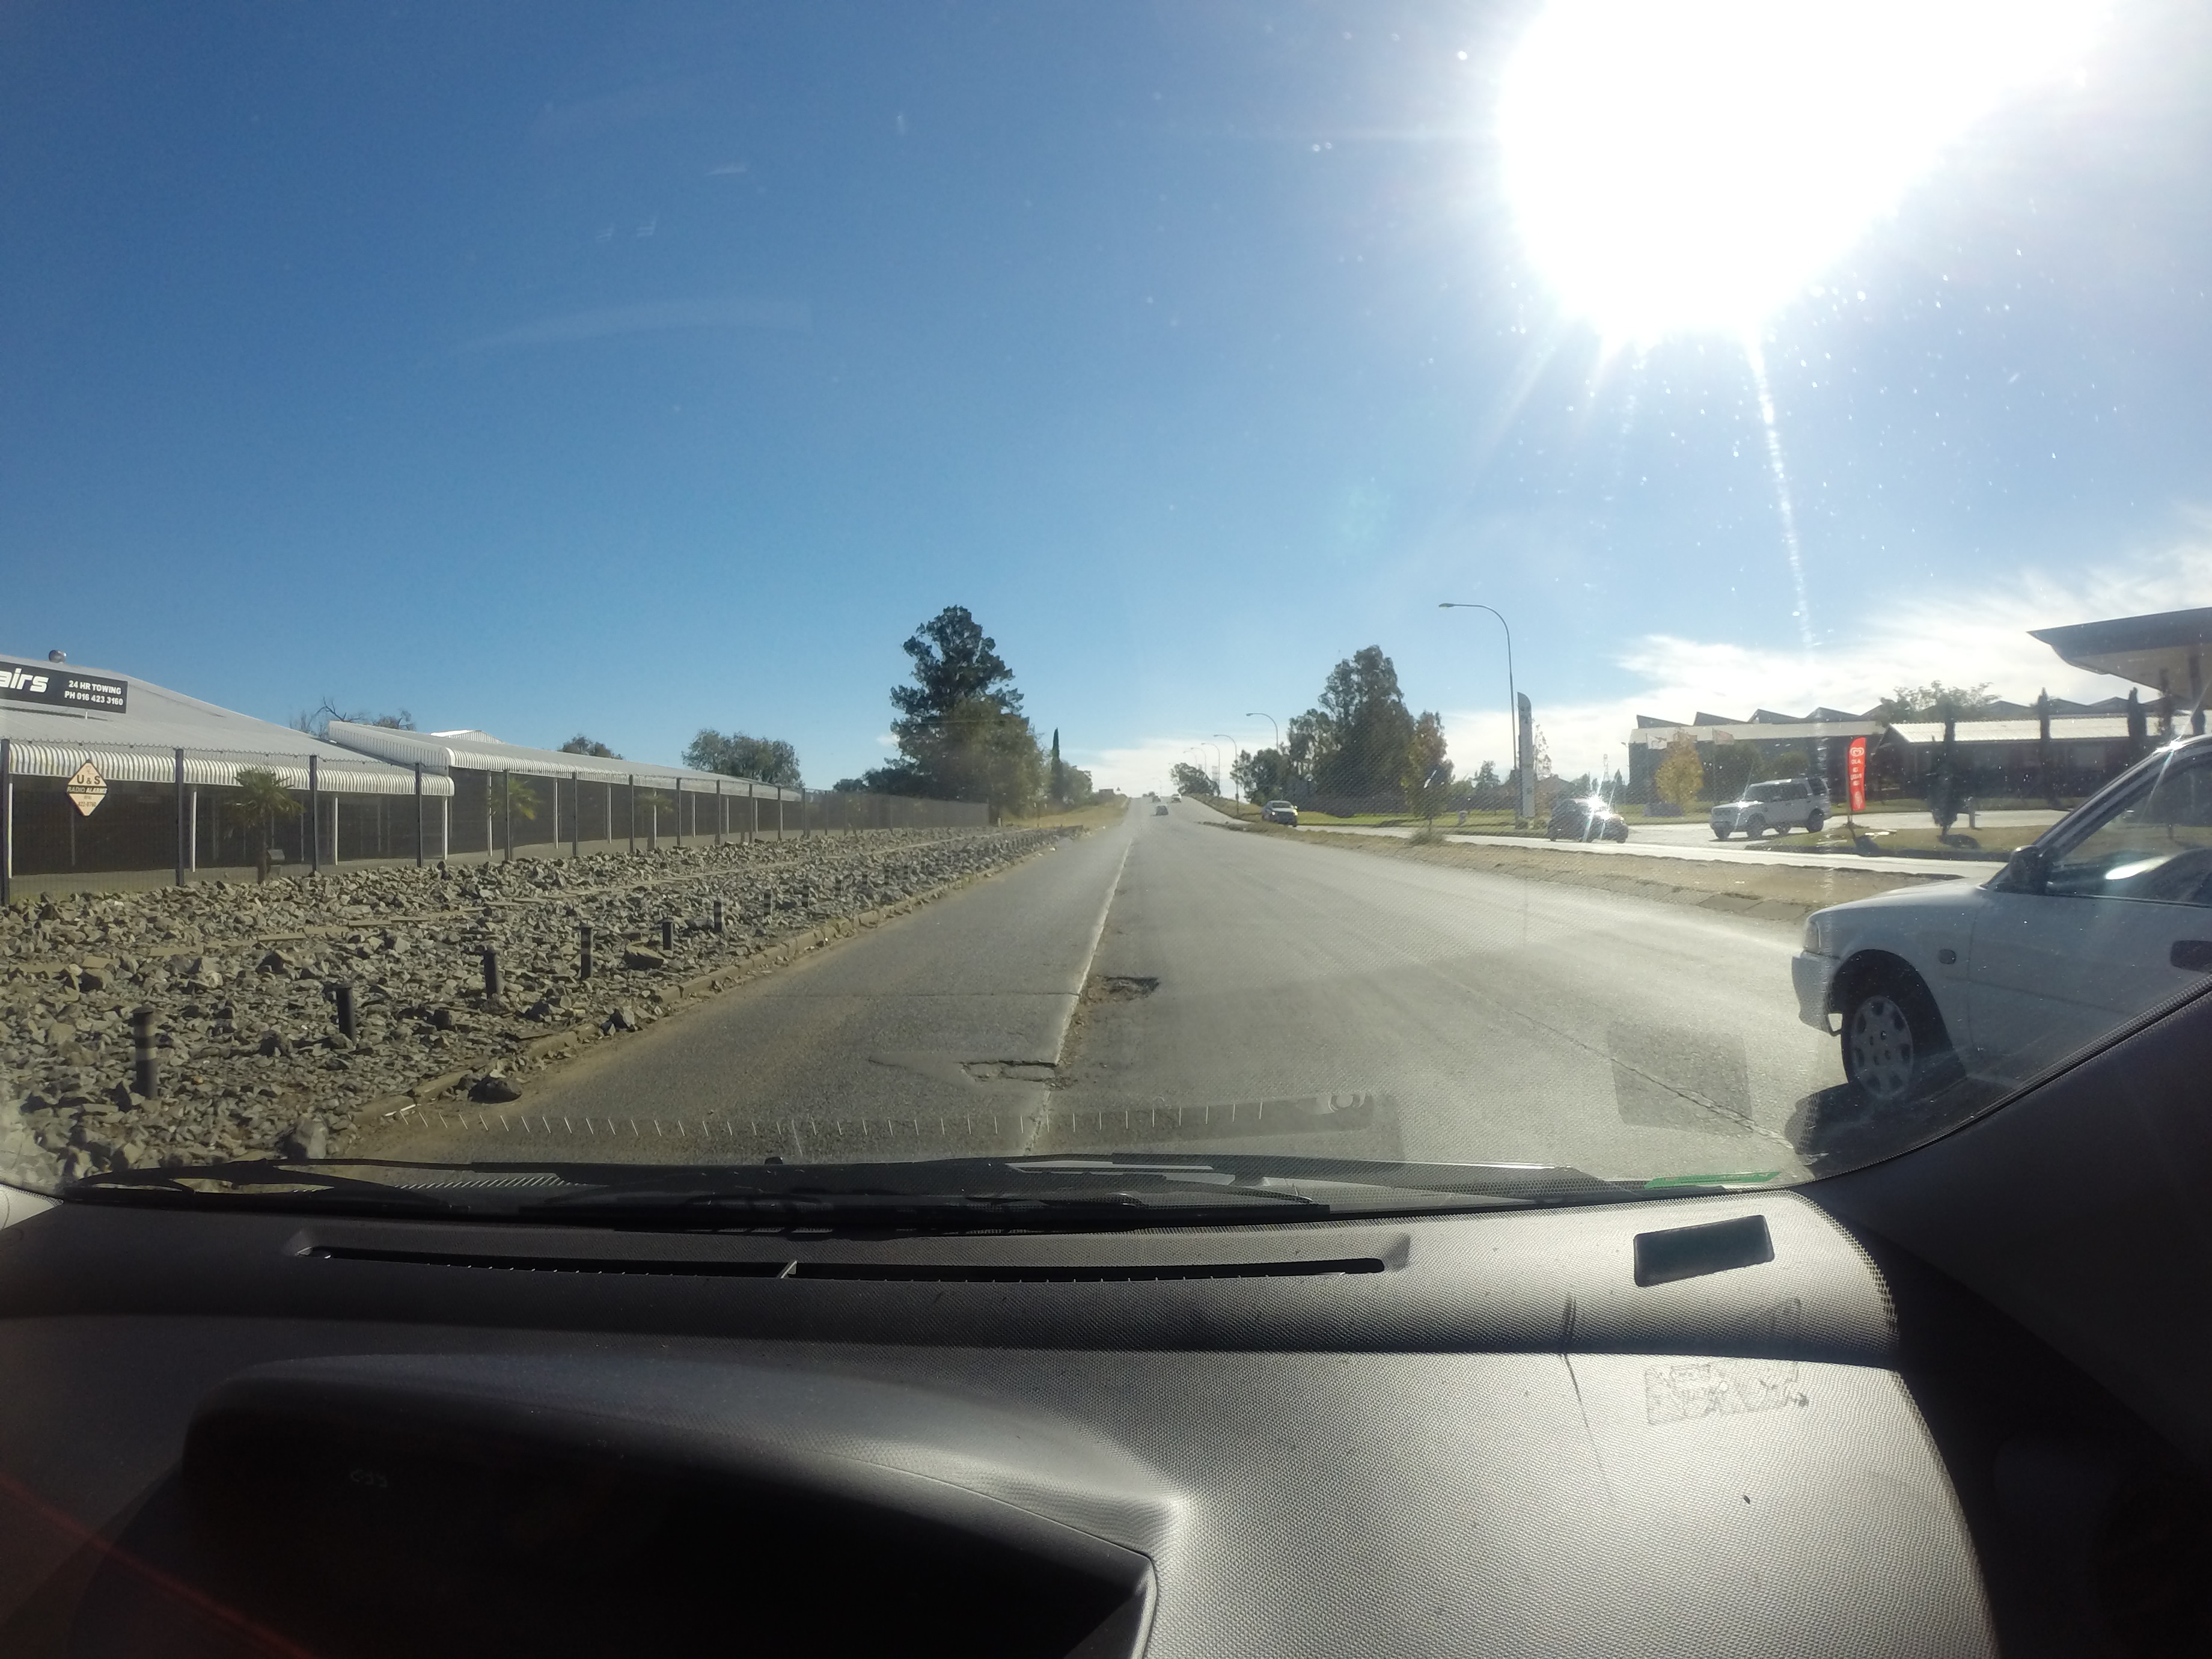pothole: (932, 1007, 1109, 1122), (1076, 962, 1172, 1012)
